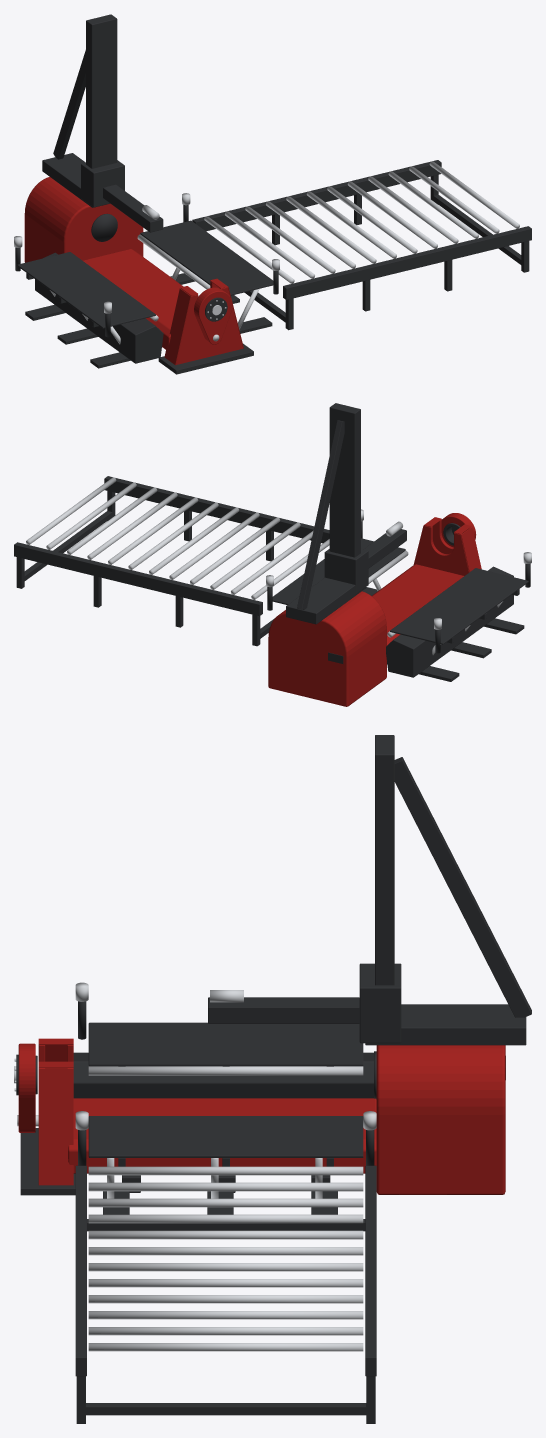
The model's file is machine.glb.
The picture shows the model from 3 angles, top to bottom: view 1: azimuth 30°, elevation 25°; view 2: azimuth 150°, elevation 25°; view 3: azimuth 270°, elevation 25°; orthographic projection. The views are drawn at different scales.
Visible parts, largest first — view 1: DriveHousing, TowerColumn, SupportTableL, SupportTableR, TableBeam1.53, LowerBody, TableBeam-1.53, EjectorJ, FrontFrame1, TowerCarriage, Yoke, TowerArm (+19 smaller); view 2: DriveHousing, SupportTableL, TowerColumn, TableBeam-1.53, LowerBody, EjectorJ, TableBeam1.53, TowerBrace, TowerBase, FrontFrame0, TowerCarriage, SupportTableR (+20 smaller); view 3: DriveHousing, SupportTableL, SupportTableR, LowerBody, EjectorJ, TowerBrace, TowerBase, TowerColumn, FrontCoverSideR, TowerArm, TableCross6.42, TowerCarriage (+18 smaller).
Boxes of the visible parts, x1,y1,x2,y2 form: DriveHousing: [24, 177, 143, 262]; TowerColumn: [86, 14, 117, 168]; SupportTableL: [17, 252, 155, 328]; SupportTableR: [140, 220, 273, 295]; TableBeam1.53: [283, 226, 531, 299]; LowerBody: [83, 249, 183, 349]; TableBeam-1.53: [192, 160, 441, 231]; EjectorJ: [35, 252, 163, 363]; FrontFrame1: [176, 287, 242, 364]; TowerCarriage: [81, 160, 124, 207]; Yoke: [194, 287, 232, 344]; TowerArm: [103, 184, 163, 232]; DriveHousing: [268, 591, 386, 706]; SupportTableL: [390, 568, 528, 644]; TowerColumn: [329, 403, 360, 557]; TableBeam-1.53: [14, 542, 262, 616]; LowerBody: [372, 564, 463, 645]; EjectorJ: [386, 566, 513, 677]; TableBeam1.53: [104, 476, 329, 543]; TowerBrace: [297, 420, 344, 609]; TowerBase: [286, 577, 366, 624]; FrontFrame0: [414, 525, 469, 575]; TowerCarriage: [324, 549, 368, 593]; SupportTableR: [272, 538, 405, 604]; DriveHousing: [376, 1045, 505, 1194]; SupportTableL: [88, 1022, 363, 1066]; SupportTableR: [88, 1116, 363, 1157]; LowerBody: [68, 1098, 376, 1173]; EjectorJ: [73, 1052, 376, 1099]; TowerBrace: [394, 757, 531, 1017]; TowerBase: [365, 1004, 526, 1045]; TowerColumn: [375, 735, 394, 985]; FrontCoverSideR: [38, 1068, 73, 1185]; TowerArm: [208, 997, 359, 1023]; TableCross6.42: [81, 1403, 370, 1415]; TowerCarriage: [359, 963, 401, 1043].
Bounding box in the file's own units: 8.31 × 4.9 × 5.47.
